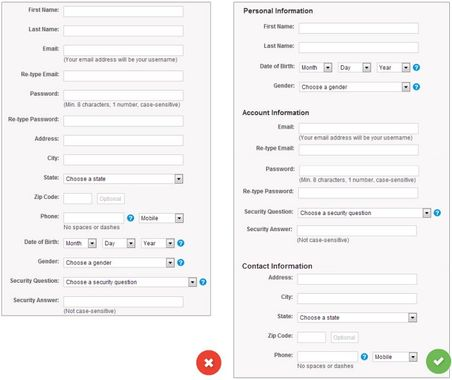field: (61, 67, 185, 84), (59, 87, 186, 102), (61, 23, 186, 38), (296, 142, 421, 157), (61, 41, 185, 56), (61, 114, 184, 129), (297, 21, 420, 36), (61, 4, 185, 18), (296, 186, 420, 200), (297, 163, 420, 177), (295, 272, 417, 286), (60, 295, 186, 308), (60, 153, 185, 166), (295, 224, 420, 237), (294, 292, 418, 305), (296, 121, 419, 134), (60, 134, 184, 146), (296, 41, 420, 53), (60, 210, 125, 225), (294, 350, 359, 363), (295, 331, 328, 343), (61, 193, 93, 205)
select: (61, 170, 185, 187), (62, 275, 197, 288), (294, 207, 432, 219), (62, 256, 176, 269), (298, 81, 412, 93), (295, 312, 417, 323), (137, 211, 185, 224), (371, 350, 418, 363), (297, 61, 334, 74), (139, 237, 175, 250), (336, 61, 372, 74), (62, 237, 100, 249), (375, 61, 410, 74), (101, 238, 137, 250)
